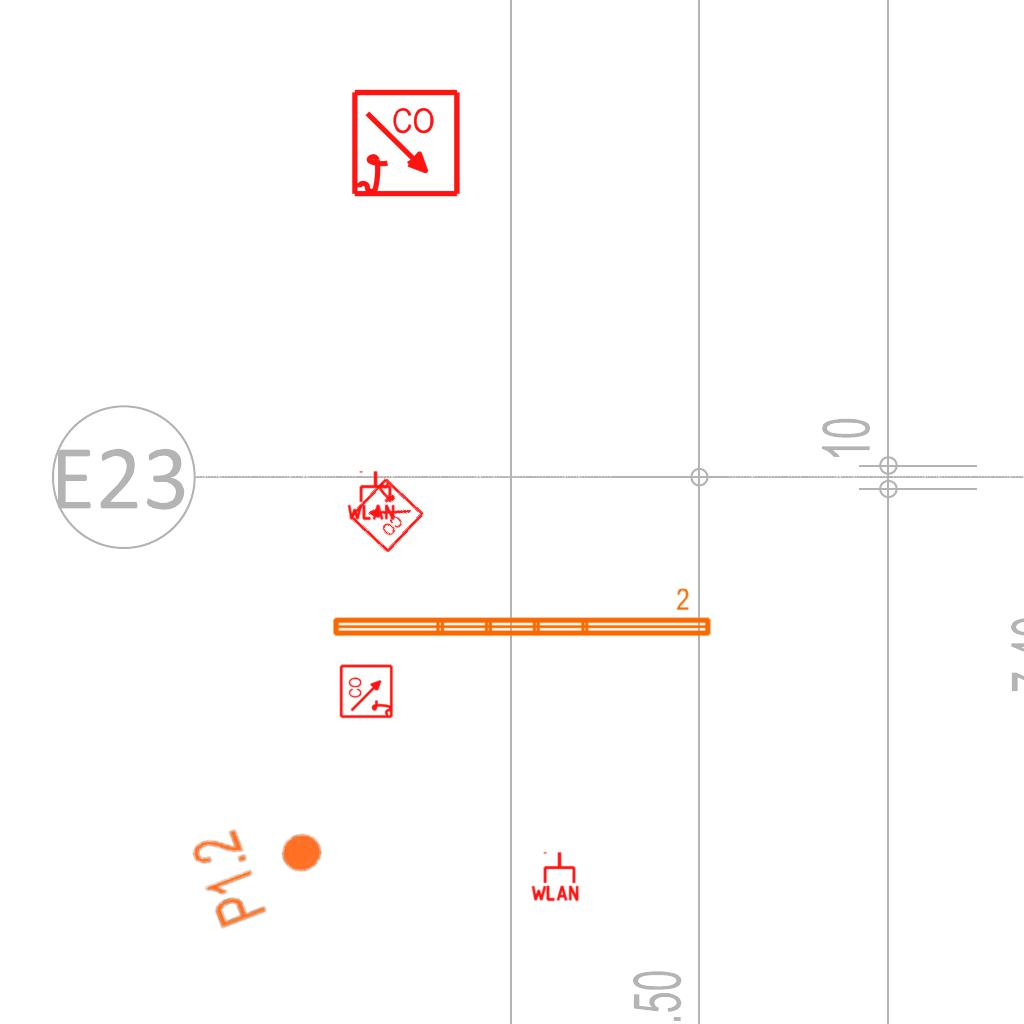Ambulanz_Pendelleuchte_LED: (328, 586, 715, 642)
Downlight_LED_Einbauleuchten_Flur: (186, 799, 339, 933)
ROA_Rauchmelder_optisch_mit_Signalgeber_(Sockelsirene): (350, 88, 463, 201), (346, 475, 426, 555), (339, 663, 395, 719)
WLAN: (529, 850, 581, 902), (345, 469, 397, 521)
